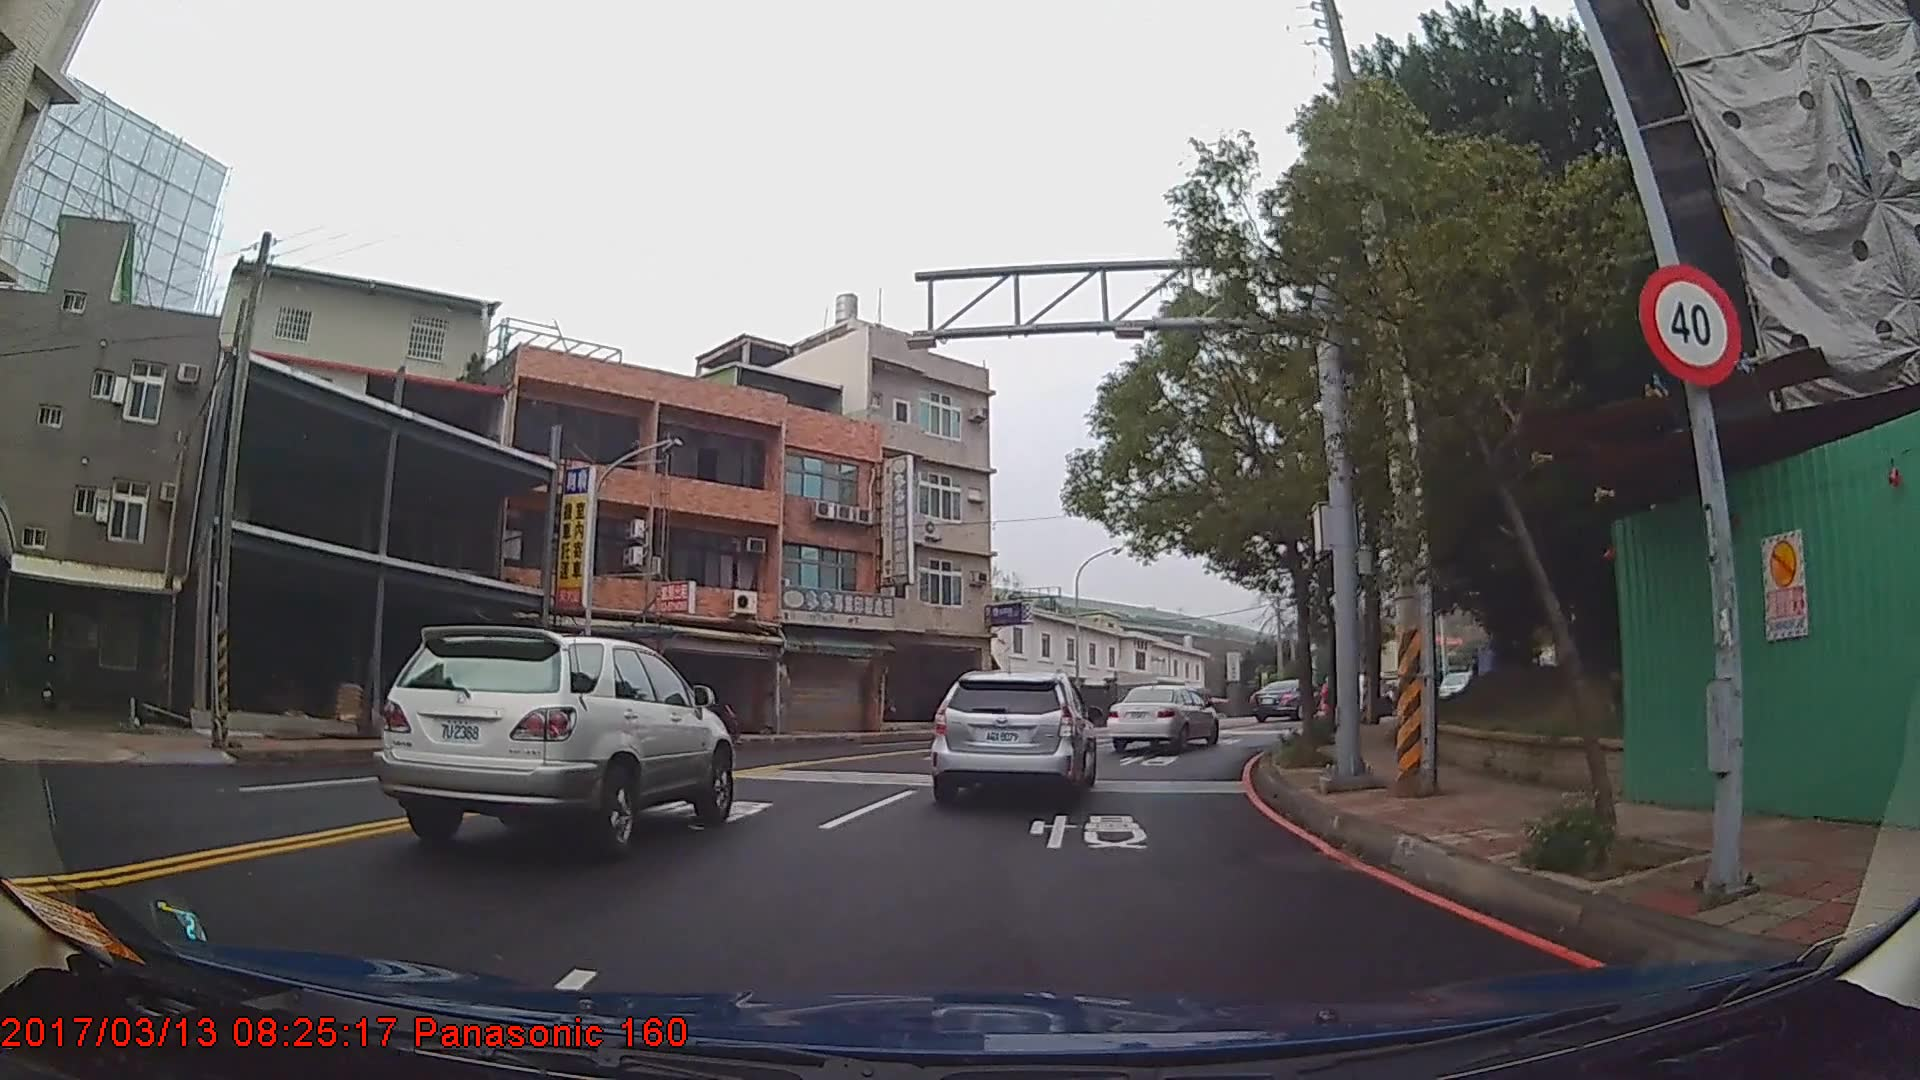vehicle: (371, 624, 736, 858), (928, 669, 1095, 804), (1104, 683, 1220, 752), (1246, 676, 1321, 723)
